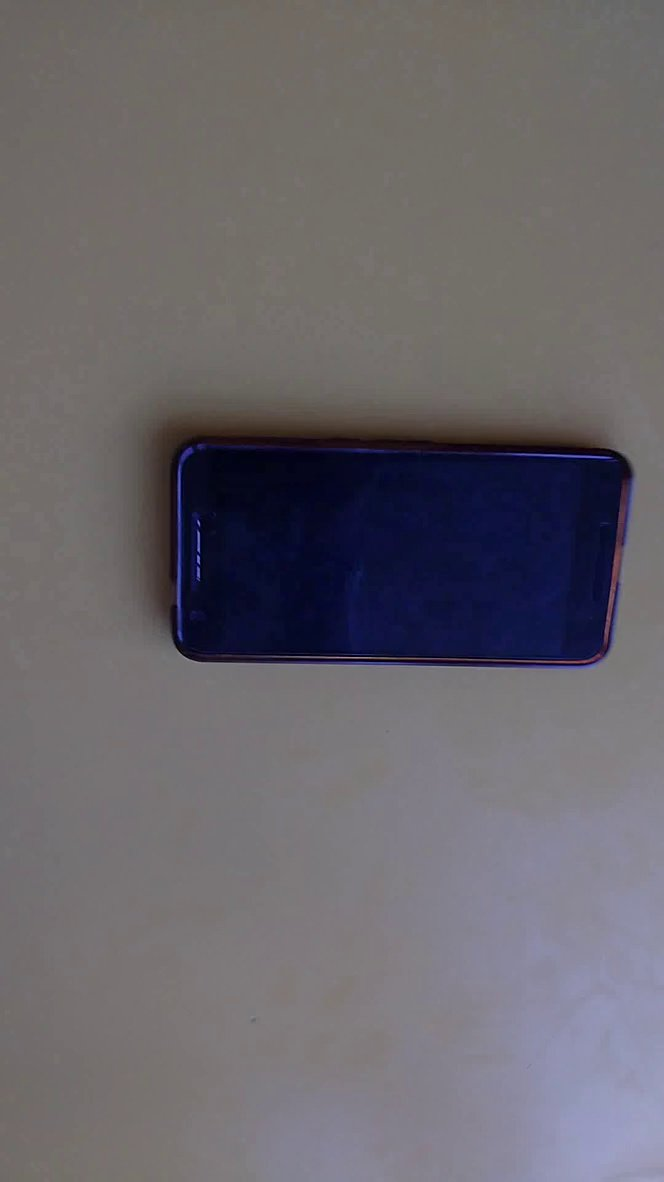phone: (153, 407, 647, 692)
